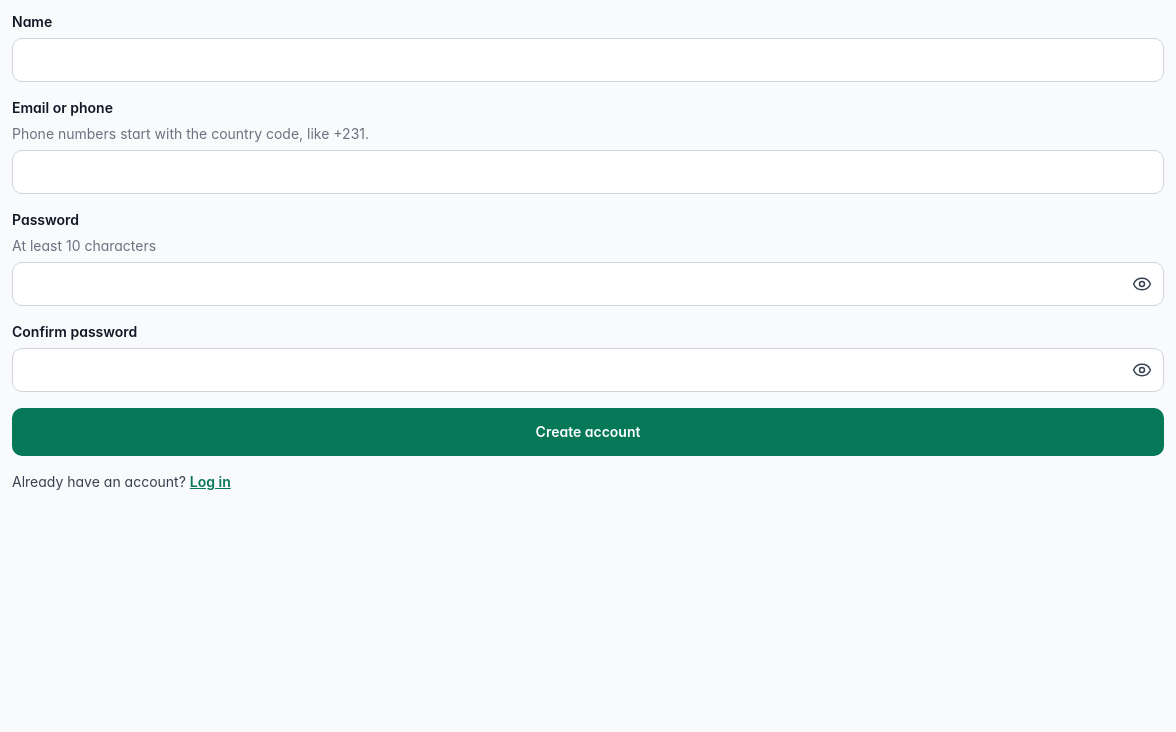
Register (SCR-04, FR-01) › validates after blur, not while typing
Step 1. Type "ada@" into the field labelled "Email or phone" → [588, 172], box x1=12 y1=150 x2=1164 y2=194
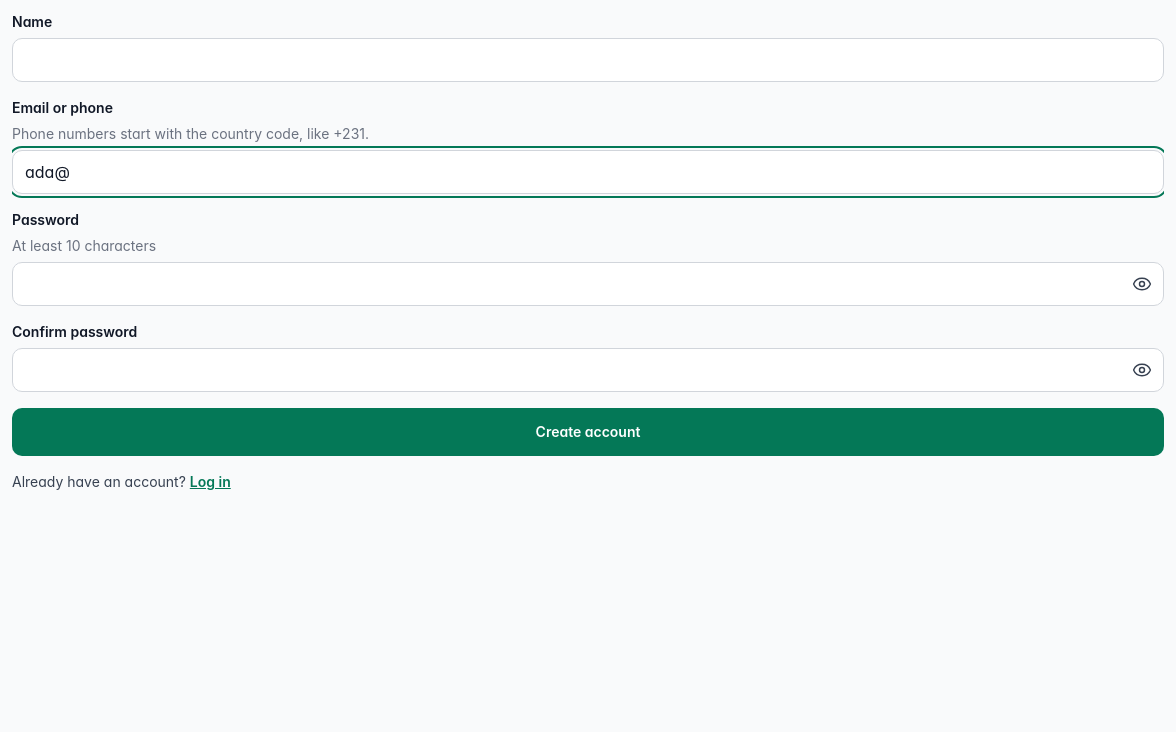
Expected: the text "full email address" is not shown
Step 2. Press Tab
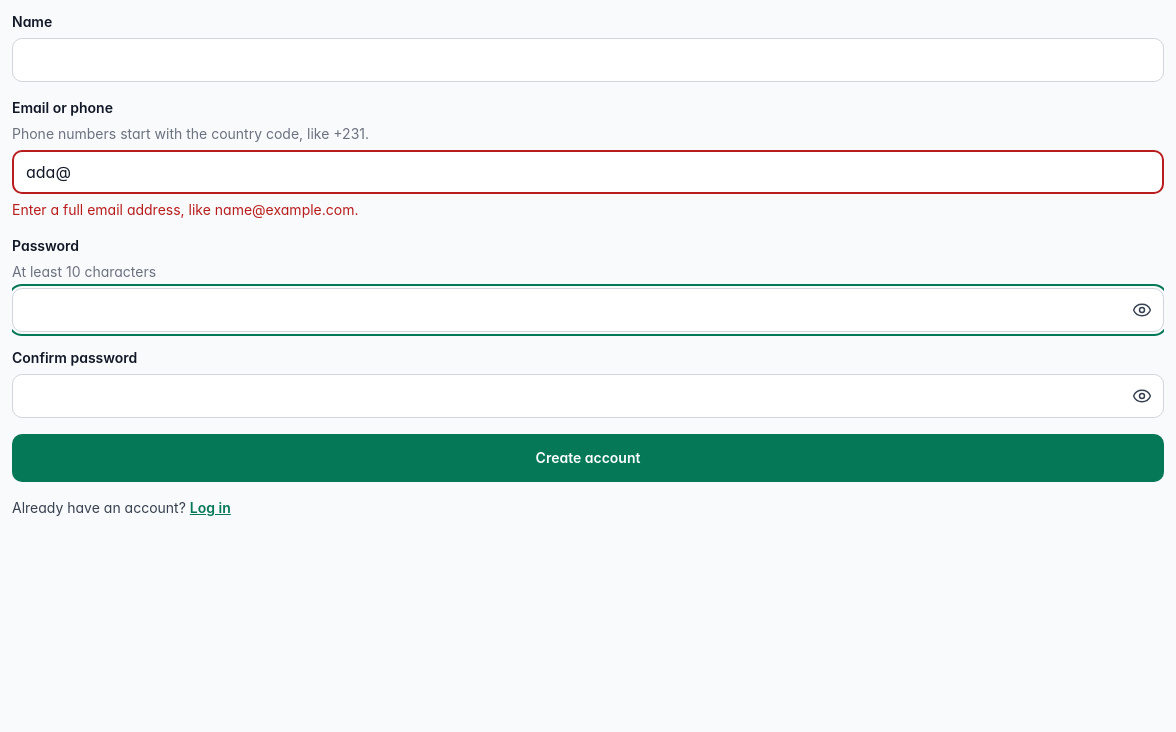
Now the text "Enter a full email address, like name@example.com." is shown, box x1=12 y1=201 x2=358 y2=218
Fixing it clears the message as the person types.
Step 3. Type "example.com" into the field labelled "Email or phone" → [588, 172], box x1=12 y1=150 x2=1164 y2=194
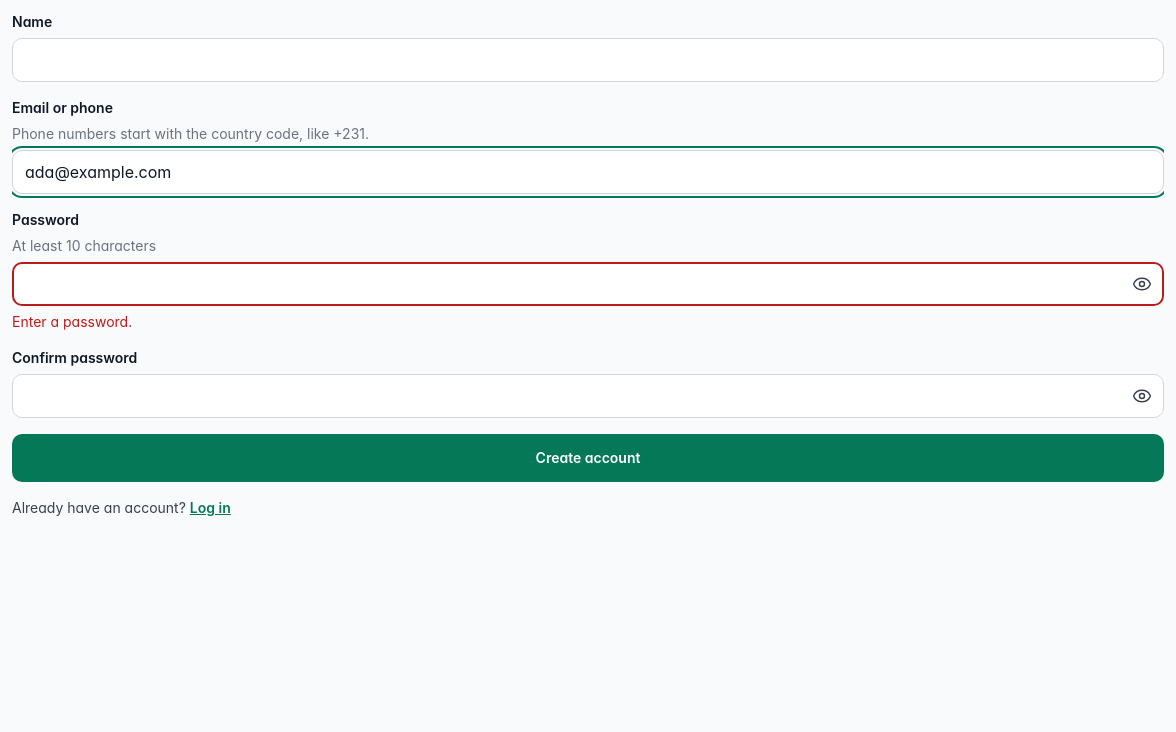
Now the text "full email address" is gone
